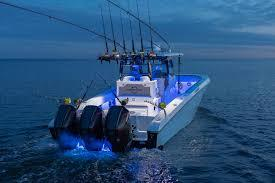fishing boat: (43, 0, 212, 155)
